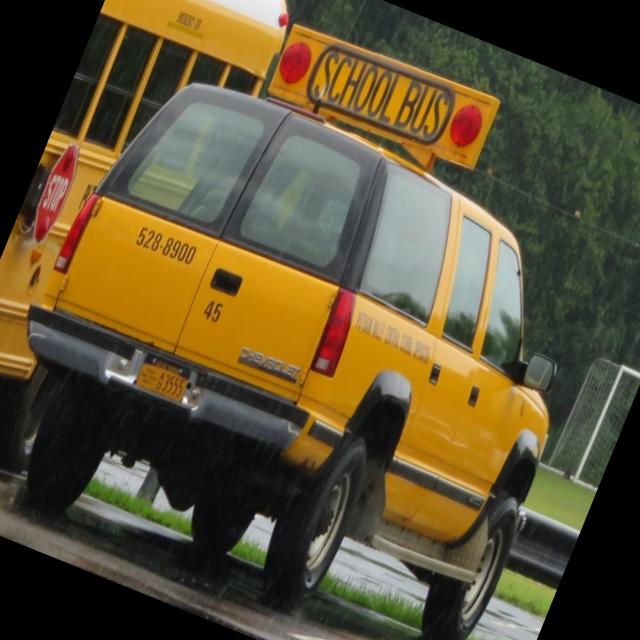bus: (0, 0, 640, 640), (0, 0, 312, 515)
